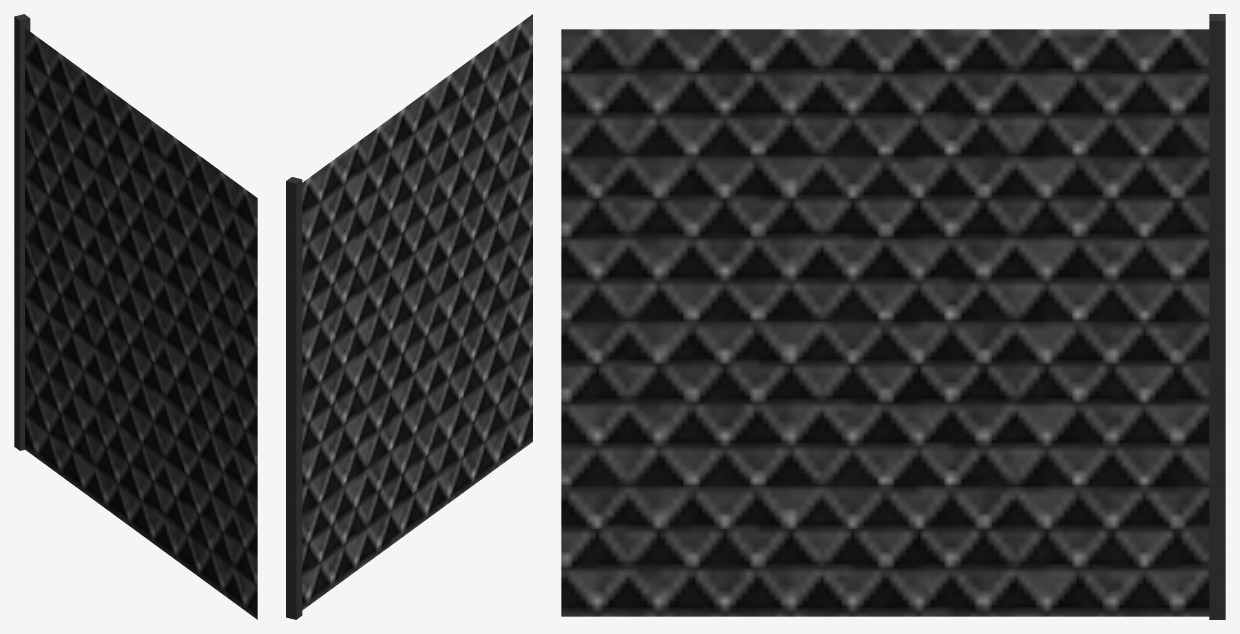
Rendered from fence1.fbx.
3 renders of one model, left to right at view 1: azimuth 30°, elevation 25°; view 2: azimuth 150°, elevation 25°; view 3: azimuth 270°, elevation 25°, orthographic. The views are drawn at different scales.
Parts seen in each view (by area): view 1: fence1; view 2: fence1; view 3: fence1.
Part boxes in pixels (left/top/right/bottom): fence1: left=14, top=14, right=257, bottom=619; fence1: left=286, top=14, right=532, bottom=619; fence1: left=561, top=14, right=1225, bottom=619.
Size of the model in its own units: 5 by 205 by 204.
1 material, 1 textured.
